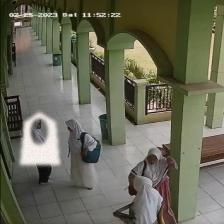Mukena: (19, 111, 59, 165)
